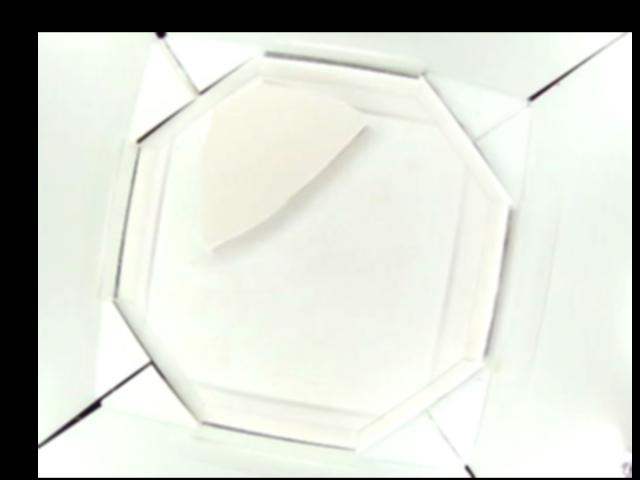China: (187, 79, 364, 250)
